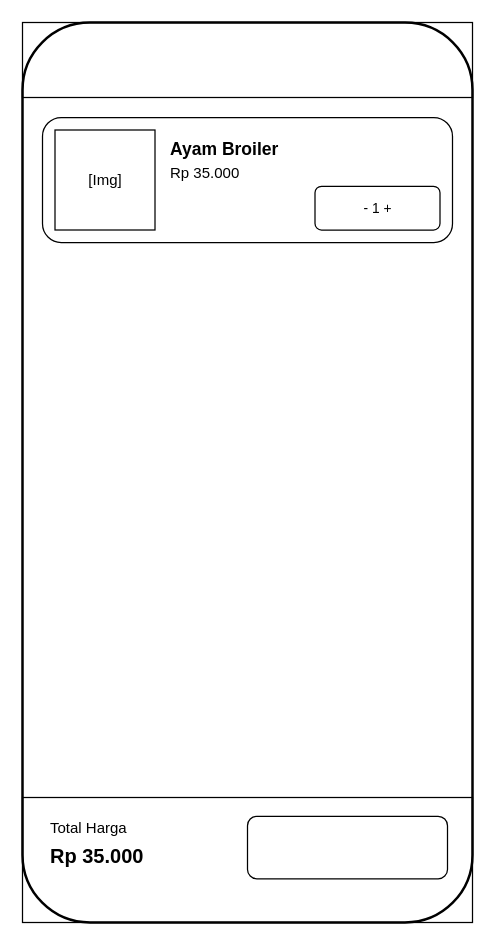
This 495x945 diagram has some shape labels left out. Here are the shapes that lost their labels. From the top down, the centre of each, then its label:
(246,59): Keranjang
(347,847): Checkout
